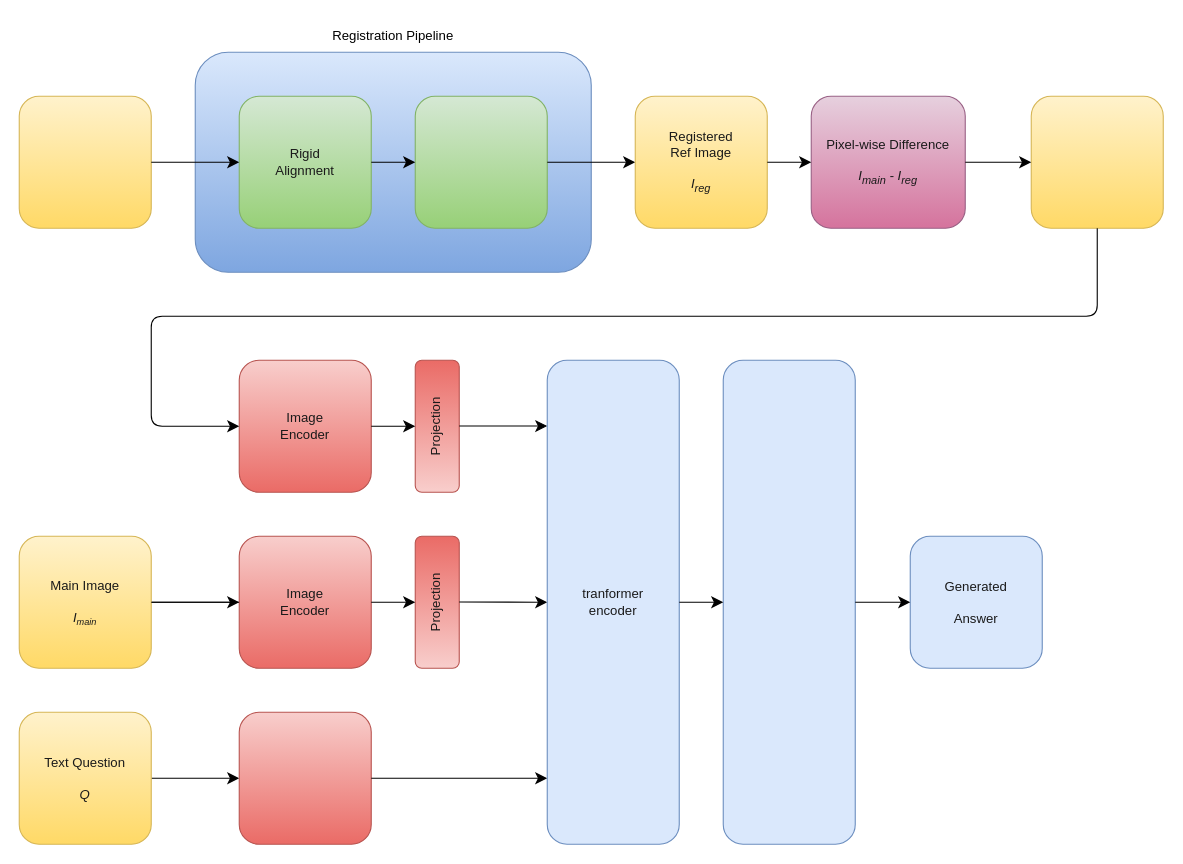
Image size: 1183x864. Some labels were removed from this diagram. Each missing label, with the box of its shape:
Deformable Wraping: (414, 95, 547, 228)
High Fidelity Residual Image I res: (1030, 95, 1163, 228)
Reference Image I ref: (18, 95, 151, 228)
Text Encoder: (238, 711, 371, 844)
transformer decoder: (722, 359, 855, 844)
